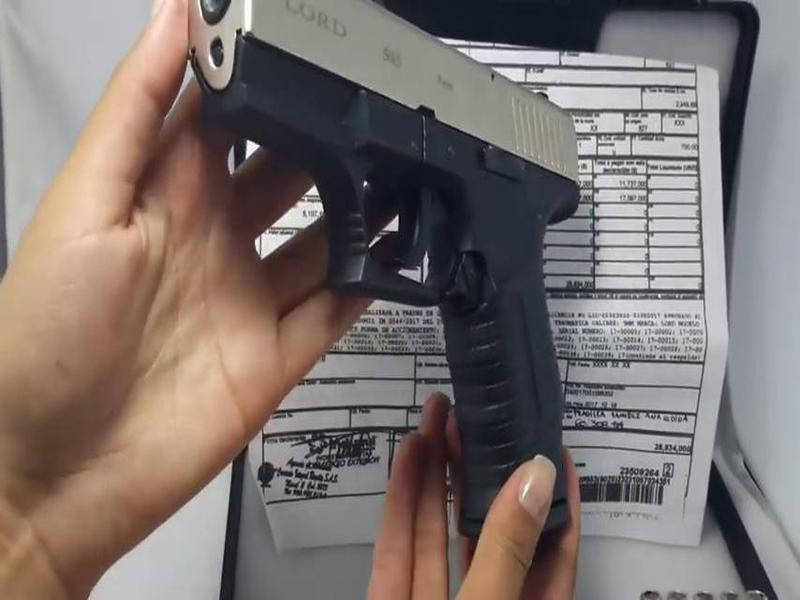Pistola: (172, 1, 623, 542)
